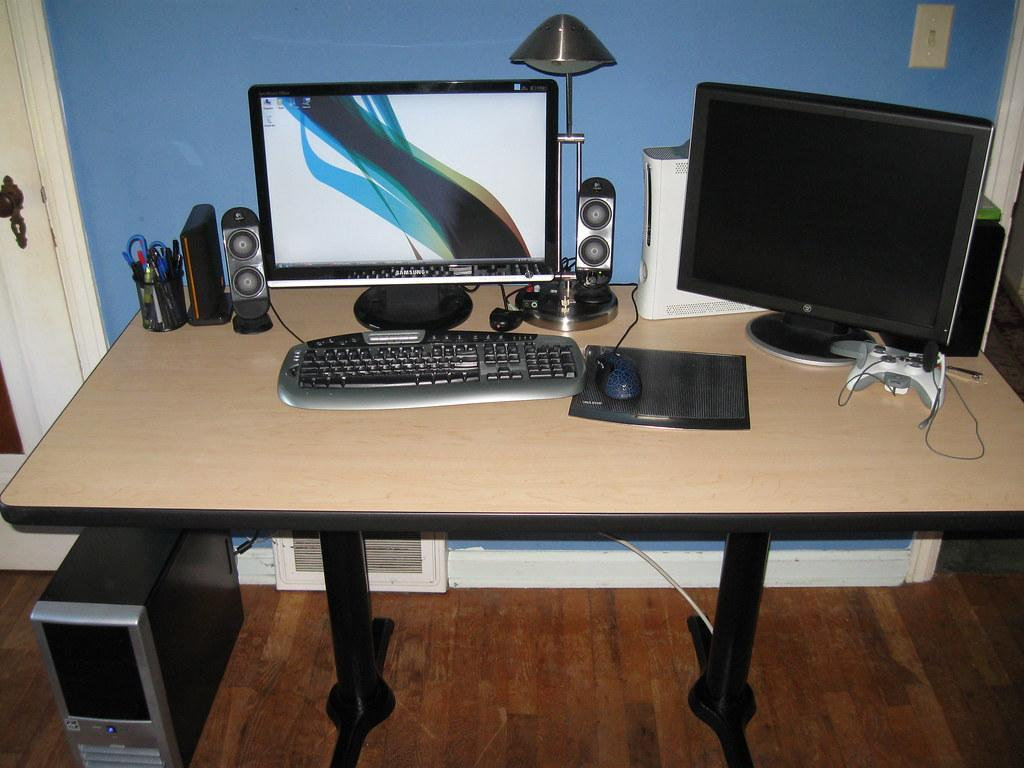computer: (678, 80, 995, 368), (248, 79, 560, 332), (29, 525, 246, 768), (635, 140, 767, 321)
